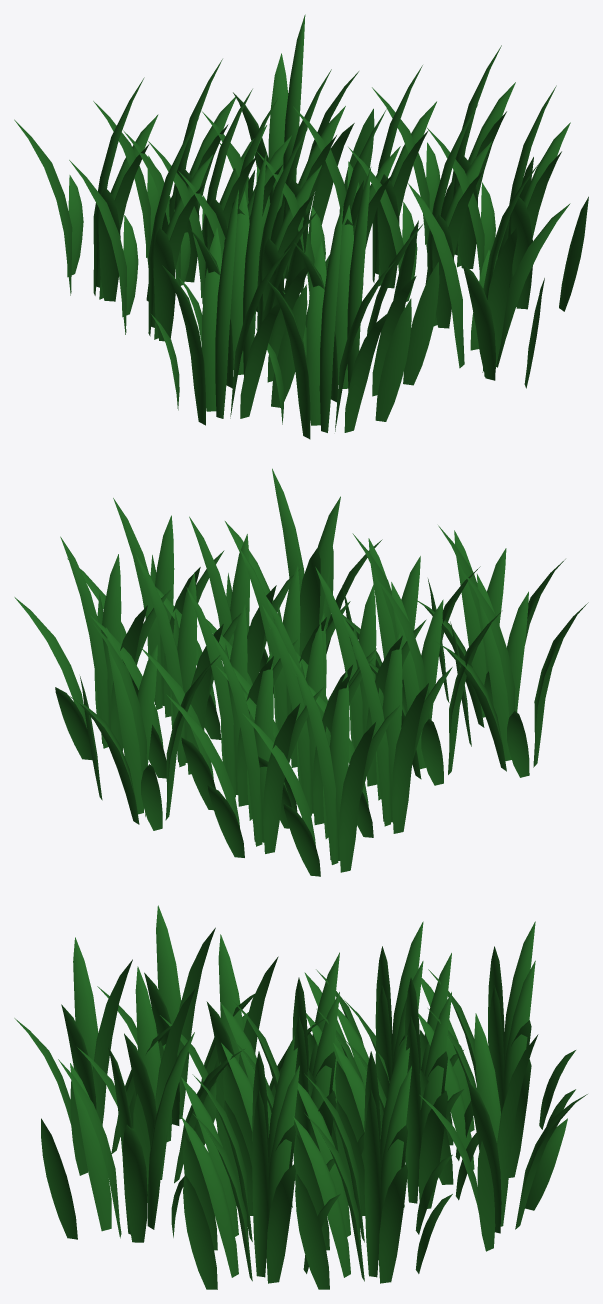
The model's file is grass pile.fbx.
The picture shows the model from 3 angles, top to bottom: view 1: azimuth 30°, elevation 25°; view 2: azimuth 150°, elevation 25°; view 3: azimuth 270°, elevation 25°; orthographic projection. The views are drawn at different scales.
Parts seen in each view (by area): view 1: single_grass24; view 2: single_grass24; view 3: single_grass24.
Part boxes in pixels (<box>): single_grass24: <box>14,14,588,439</box>; single_grass24: <box>14,468,588,876</box>; single_grass24: <box>14,905,587,1289</box>.
Bounding box in the file's own units: 123 × 52.92 × 126.
